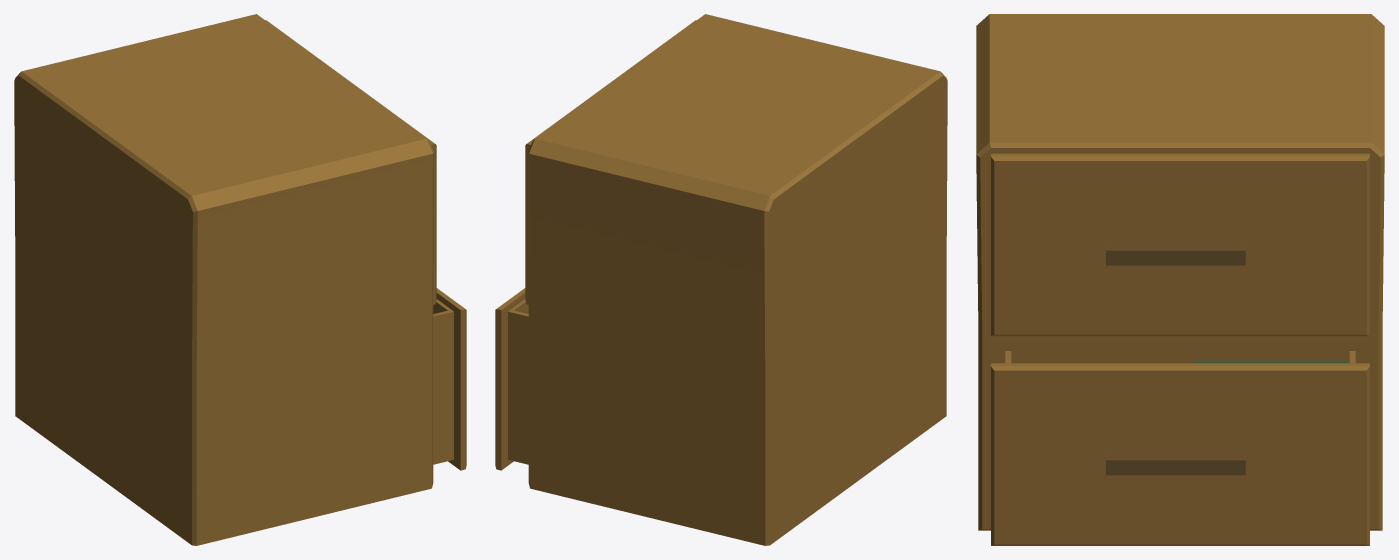
File: BedsideDrawer.fbx
3 views of the same model, side by side, from view 1: azimuth 30°, elevation 25°; view 2: azimuth 150°, elevation 25°; view 3: azimuth 270°, elevation 25° (orthographic). The views are drawn at different scales.
Visible parts, largest first — view 1: BedsideDrawer; view 2: BedsideDrawer; view 3: BedsideDrawer.
Boxes of the visible parts, x1,y1,x2,y2 form: BedsideDrawer: (14,14,466,545); BedsideDrawer: (495,14,947,545); BedsideDrawer: (976,14,1384,545).
Bounding box in the file's own units: 1.47 × 1.68 × 1.6.
